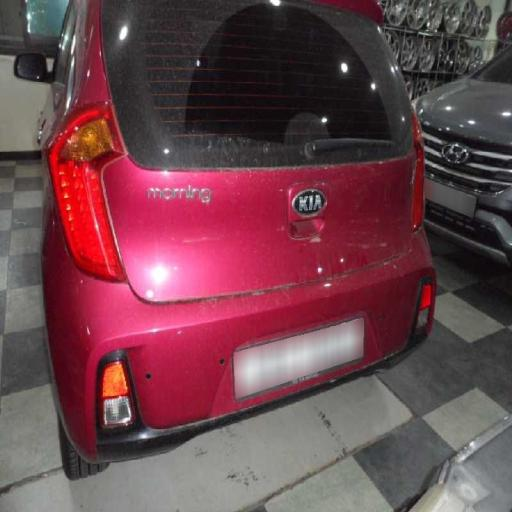scratch: (147, 158, 431, 296)
